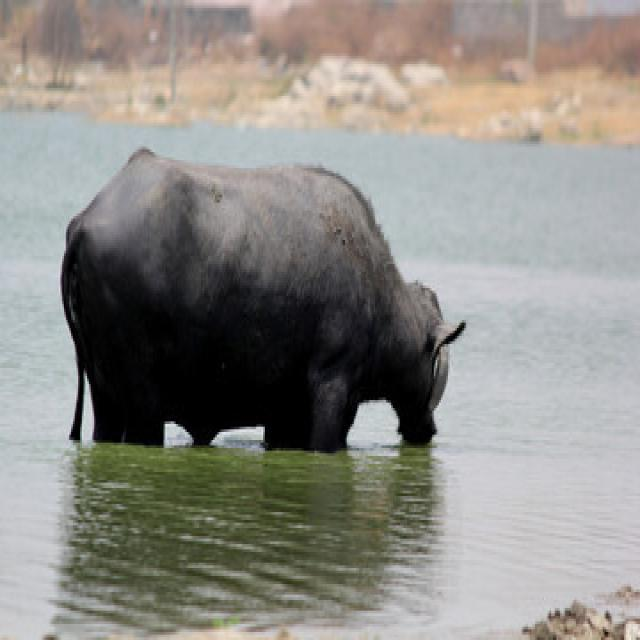Buffalo: (57, 139, 467, 456)
